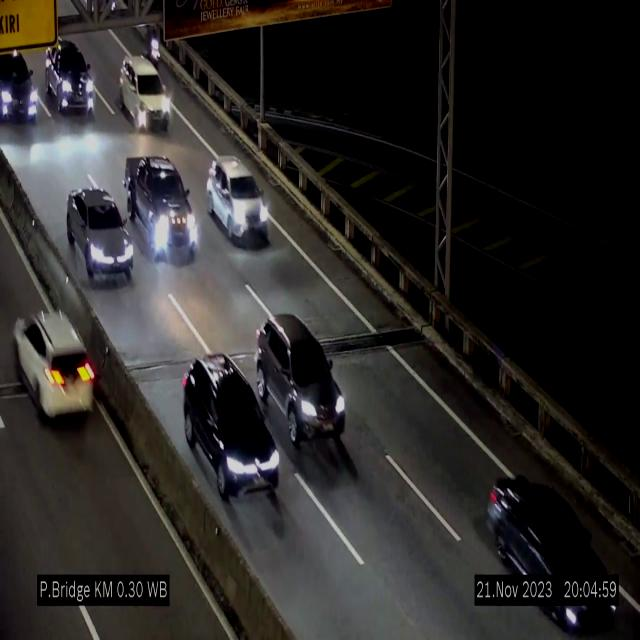Car: (478, 452, 628, 640), (183, 354, 281, 504), (4, 288, 103, 436), (256, 316, 348, 451), (124, 156, 197, 259), (66, 188, 134, 284), (207, 156, 271, 242), (0, 36, 48, 130), (47, 35, 96, 118), (119, 56, 171, 130)
Motorcycle: (143, 12, 163, 78)
